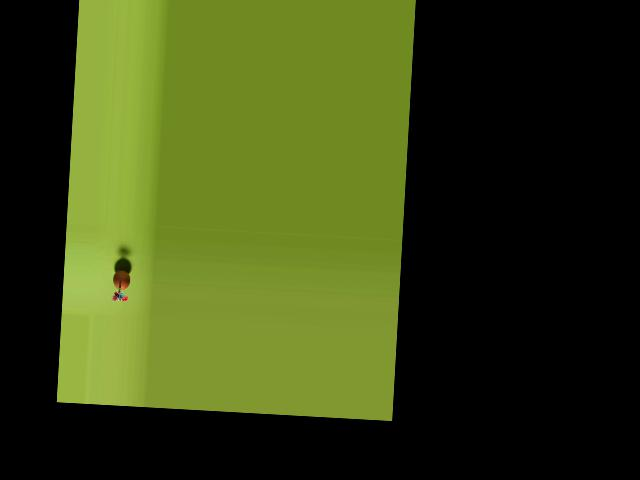egg: (112, 269, 130, 290)
